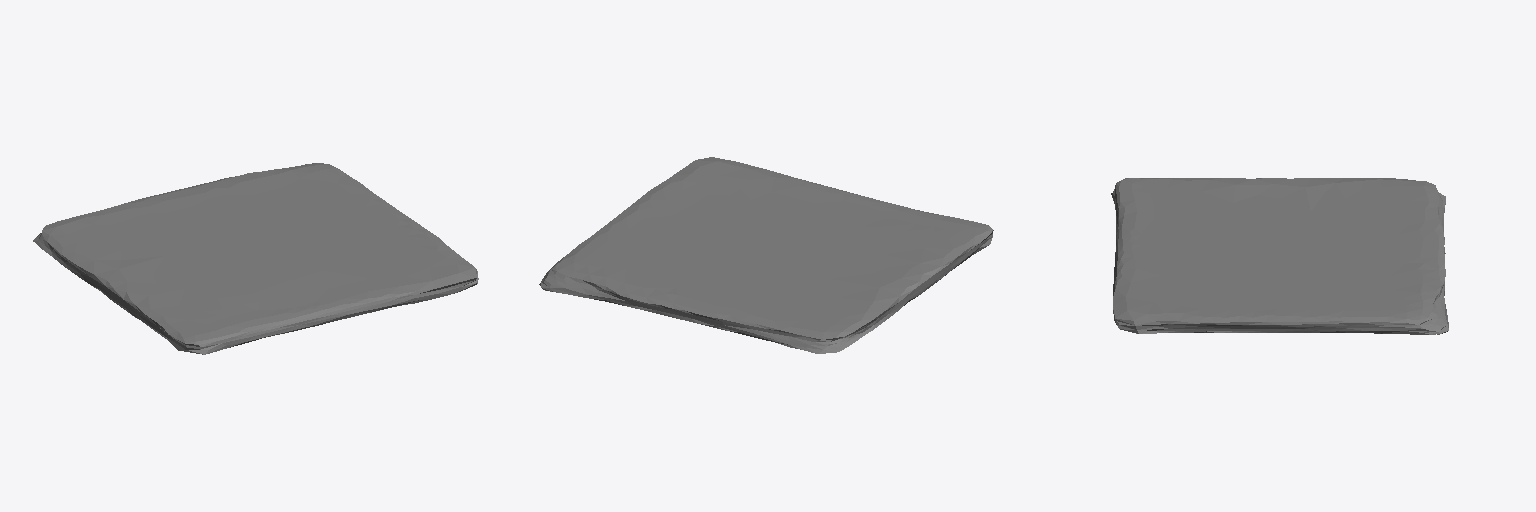
Rendered from ObjPropio.obj.
3 renders of one model, left to right at view 1: azimuth 30°, elevation 25°; view 2: azimuth 150°, elevation 25°; view 3: azimuth 270°, elevation 25°, orthographic.
Parts seen in each view (by area): view 1: Plataforma(ObjPropio); view 2: Plataforma(ObjPropio); view 3: Plataforma(ObjPropio).
Boxes of the visible parts, <box> form: Plataforma(ObjPropio): <box>33,163,478,354</box>; Plataforma(ObjPropio): <box>539,157,993,353</box>; Plataforma(ObjPropio): <box>1111,178,1448,334</box>.
Size of the model in its own units: 375 by 19.16 by 364.